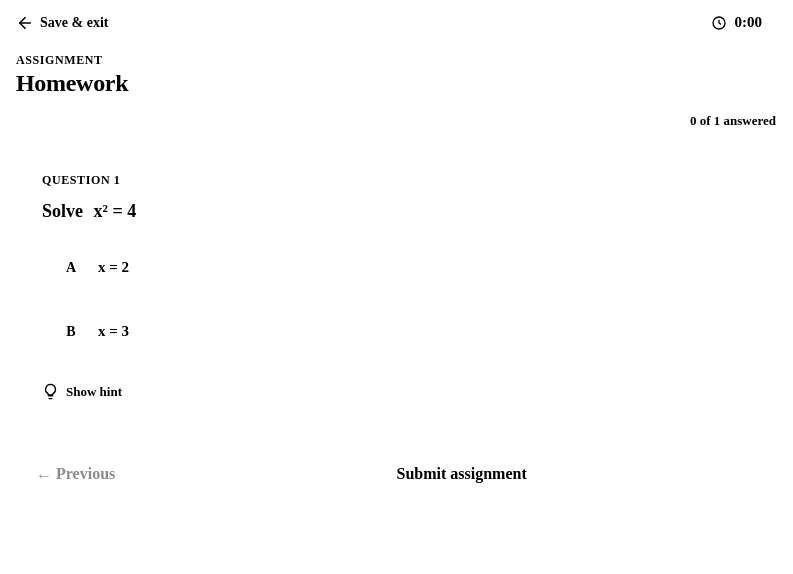
Scenario: AssignmentRunnerComponent (FR-STU-ASG-001..006) › shows the hint toggle only when hintUrl is present, and reveals the hintUrl when toggled
What coordinates should you click on to do the following:
click the button with class "run__hinttoggle"
I would click on:
 (82, 392)
Its box is [42,377,122,406].
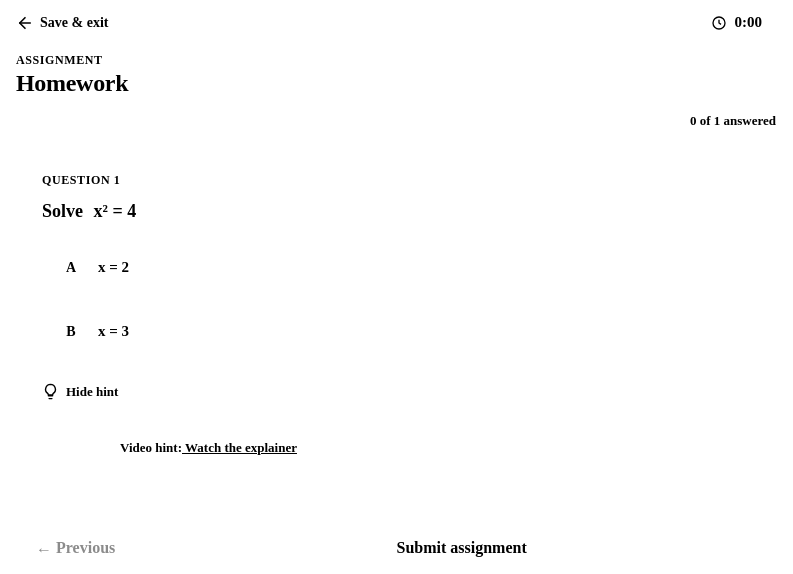
Expected: the button with class "run__hinttoggle" reads "Hide hint", [42,377,118,406]
